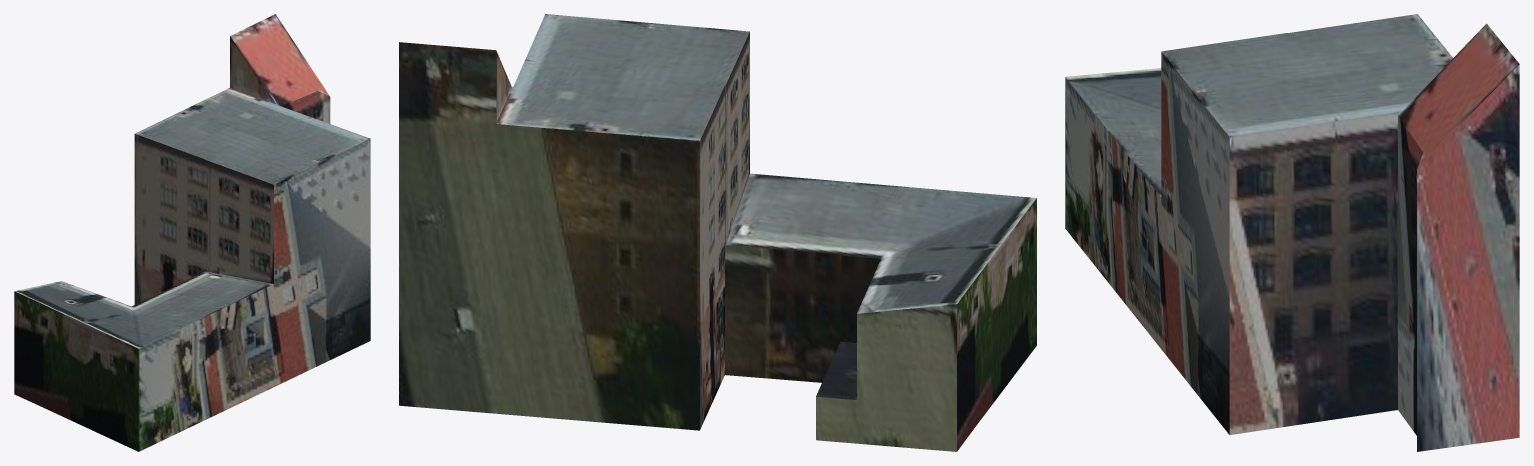
Rendered from DEB_LOD2_UUID_cd97bc33-09cc-4127-953c-7a4a68c73424.dae.
3 renders of one model, left to right at view 1: azimuth 30°, elevation 25°; view 2: azimuth 150°, elevation 25°; view 3: azimuth 270°, elevation 25°, orthographic. The views are drawn at different scales.
Bounding box in the file's own units: 36.22 × 28.05 × 25.46.
2 materials, 1 textured.
